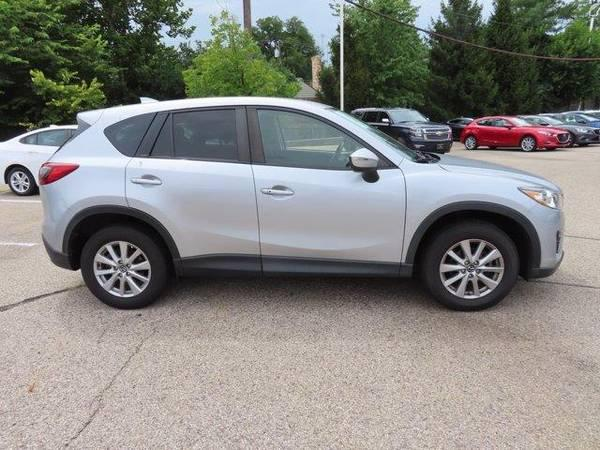Front_Bumper: (519, 201, 566, 277)
Front_Fender: (397, 159, 533, 277)
Front_Right_Door: (254, 165, 405, 275)
Front_Right_Window: (245, 106, 395, 169)
Hood: (432, 155, 563, 196)
Rear_Bumper: (38, 183, 75, 269)
Rear_Fender: (54, 112, 155, 216)
Rear_Right_Door: (124, 155, 264, 271)
Rear_Right_Window: (133, 106, 253, 164)
Right_Headlight: (516, 187, 563, 209)
Right_Taillight: (38, 162, 81, 187)
Roof: (53, 93, 409, 166)
Wheel: (420, 222, 521, 312), (79, 224, 168, 306)
